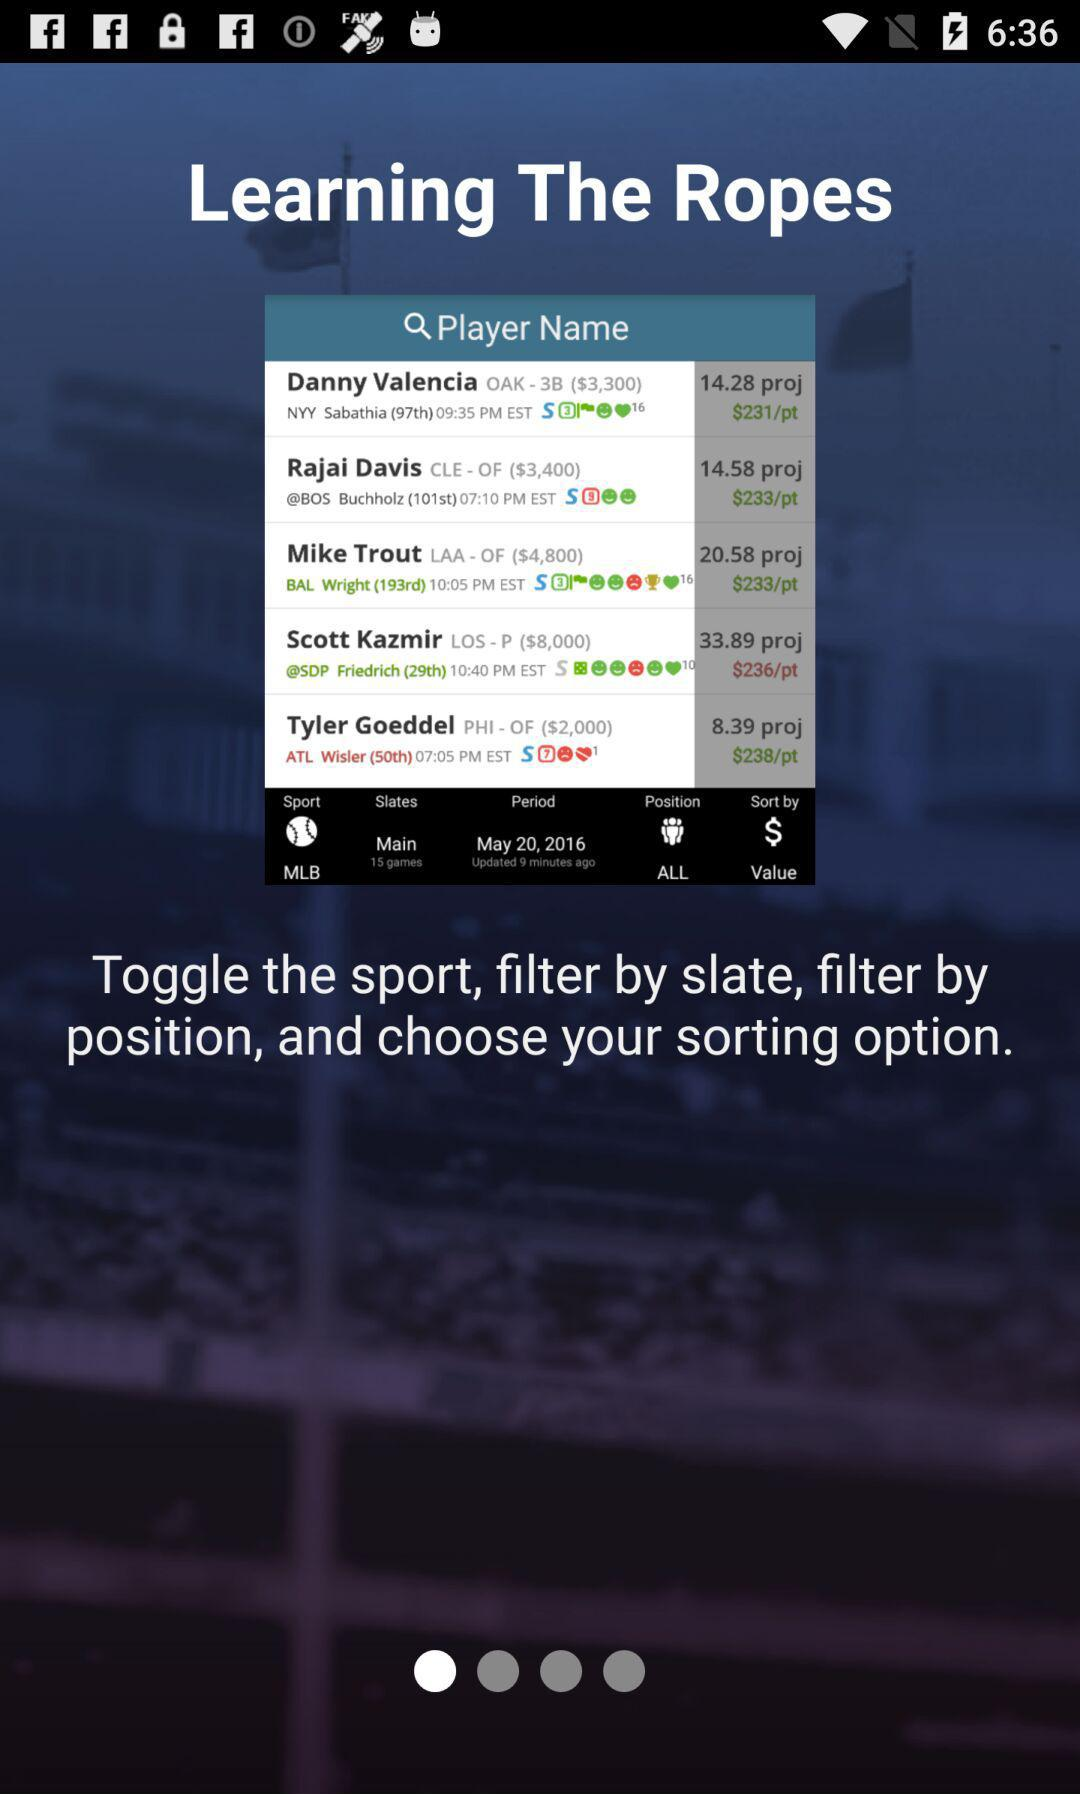BackgroundImage: (1, 64, 1080, 1794)
Image: (264, 293, 817, 885)
PageIndicator: (413, 1647, 648, 1697)
Text: (67, 951, 1013, 1069), (190, 160, 893, 240)
UpperTaskBar: (1, 1, 1080, 64)
